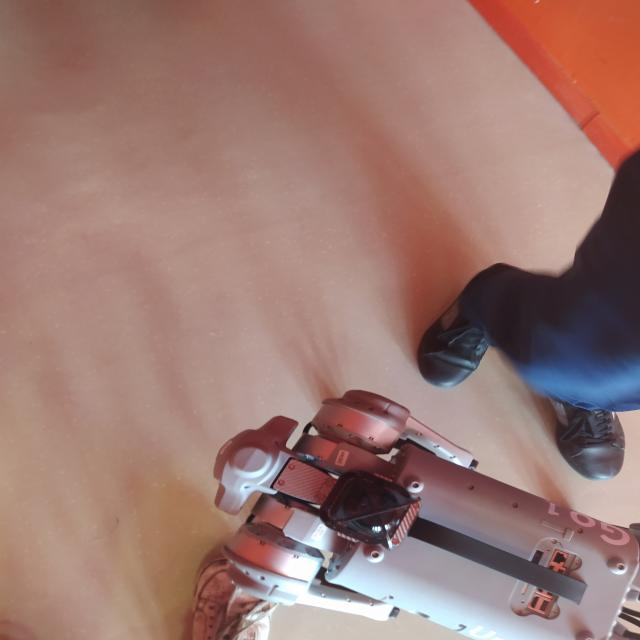unitree-go1-robot: (213, 390, 640, 639)
